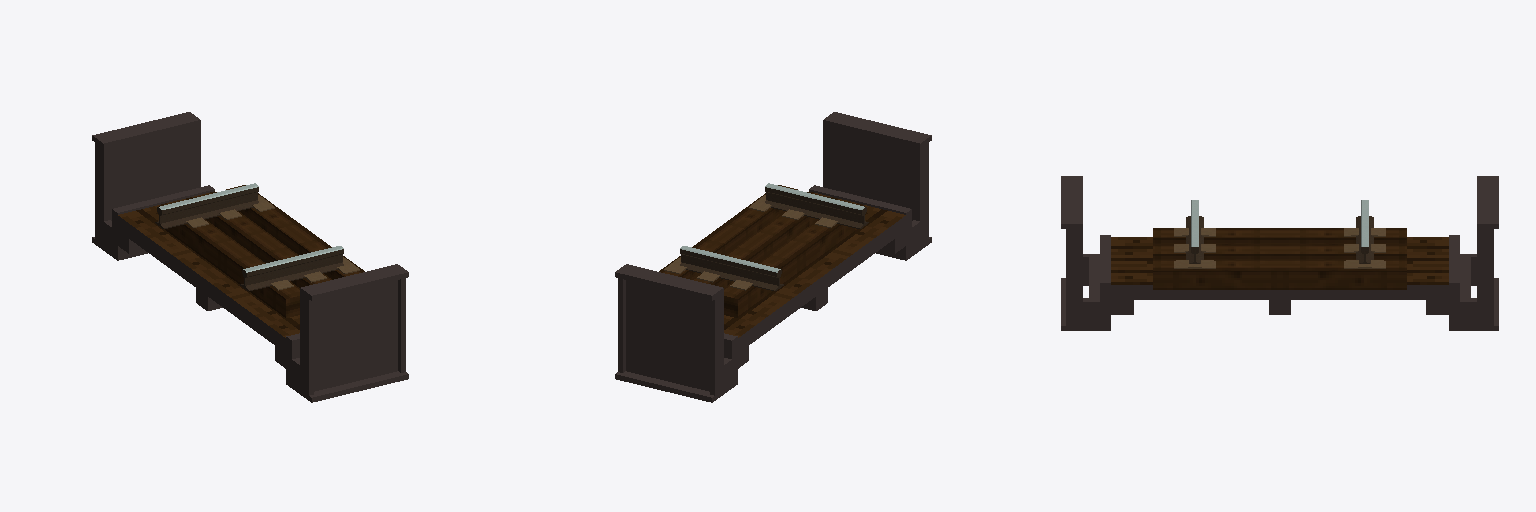
3 renders of one model, left to right at view 1: azimuth 30°, elevation 25°; view 2: azimuth 150°, elevation 25°; view 3: azimuth 270°, elevation 25°, orthographic.
Parts seen in each view (by area): view 1: RAIL_BASE.002, RAIL_BASE, RAIL_BASE.003, RAIL_RIGHT, RAIL_LEFT, RAIL_BASE.001; view 2: RAIL_BASE.002, RAIL_BASE, RAIL_BASE.003, RAIL_LEFT, RAIL_RIGHT, RAIL_BASE.001; view 3: RAIL_BASE.002, RAIL_BASE, RAIL_BASE.003, RAIL_BASE.001, RAIL_LEFT, RAIL_RIGHT.
Boxes of the visible parts, x1,y1,x2,y2 form: RAIL_BASE.002: [92, 112, 408, 402]; RAIL_BASE: [192, 185, 364, 287]; RAIL_BASE.003: [159, 201, 299, 317]; RAIL_RIGHT: [155, 183, 258, 228]; RAIL_LEFT: [240, 246, 343, 290]; RAIL_BASE.001: [219, 195, 359, 282]; RAIL_BASE.002: [615, 112, 931, 402]; RAIL_BASE: [659, 185, 831, 287]; RAIL_BASE.003: [724, 201, 864, 317]; RAIL_LEFT: [765, 183, 868, 228]; RAIL_RIGHT: [680, 246, 783, 290]; RAIL_BASE.001: [664, 195, 804, 282]; RAIL_BASE.002: [1061, 176, 1498, 330]; RAIL_BASE: [1153, 244, 1406, 289]; RAIL_BASE.003: [1153, 228, 1406, 243]; RAIL_BASE.001: [1174, 244, 1385, 268]; RAIL_LEFT: [1186, 200, 1203, 263]; RAIL_RIGHT: [1356, 200, 1373, 263].
Size of the model in its own units: 1.11 by 1.05 by 3.9.
2 materials, 2 textured.